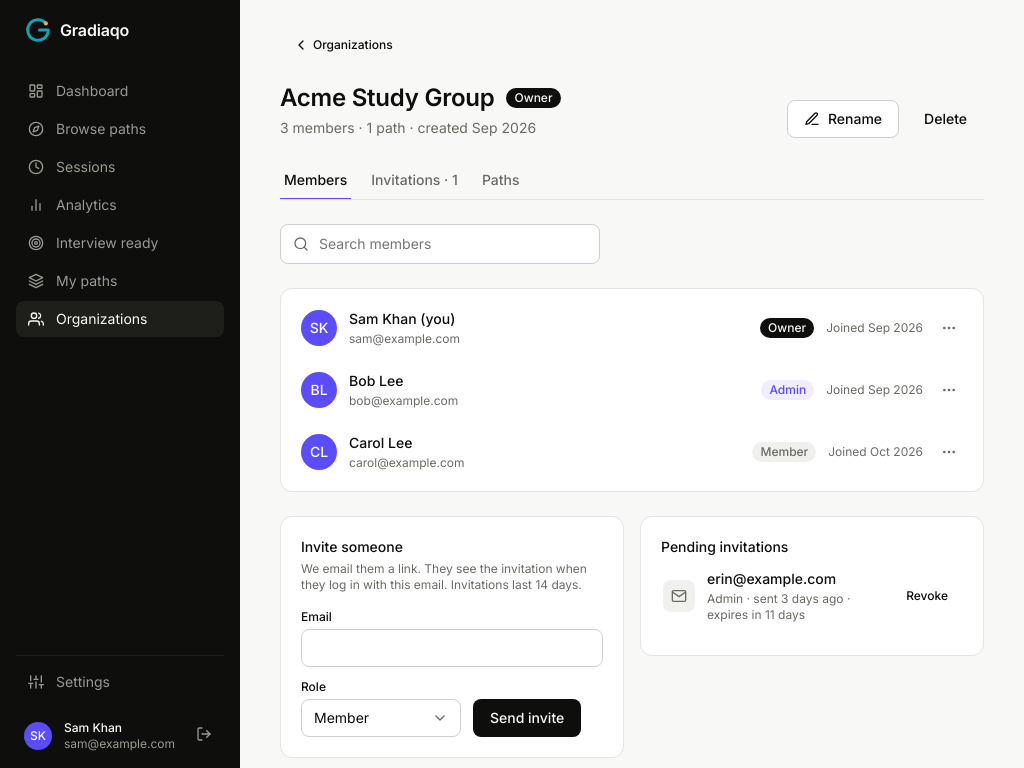
OrganizationPage › changes a member's role, and shows why the API refused one
Expected: the element named "Members" is shown, [280,288,984,492]
Click the button named "Actions for Bob Lee": {"x": 949, "y": 390} [935,376,963,404]
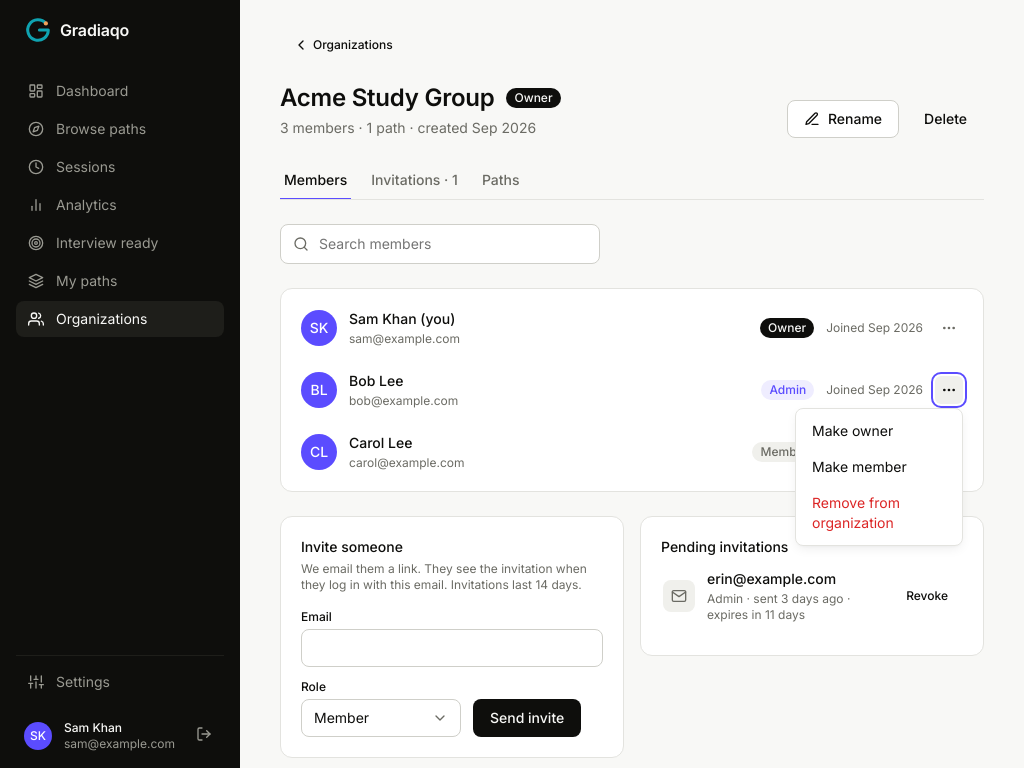
Click the button "Make member": {"x": 879, "y": 467} [800,449,958,485]
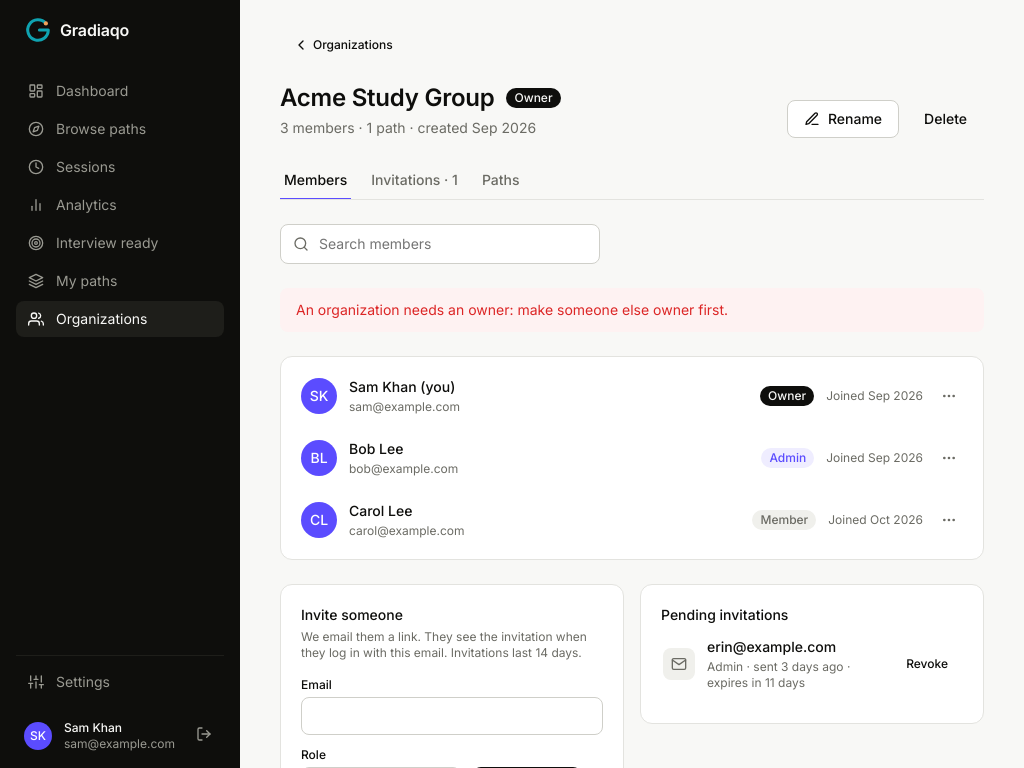
Expected: the message reads "An organization needs an owner: make someone else owner first.", [296,301,728,318]
Click the button named "Actions for Bob Lee": {"x": 949, "y": 458} [935,444,963,472]
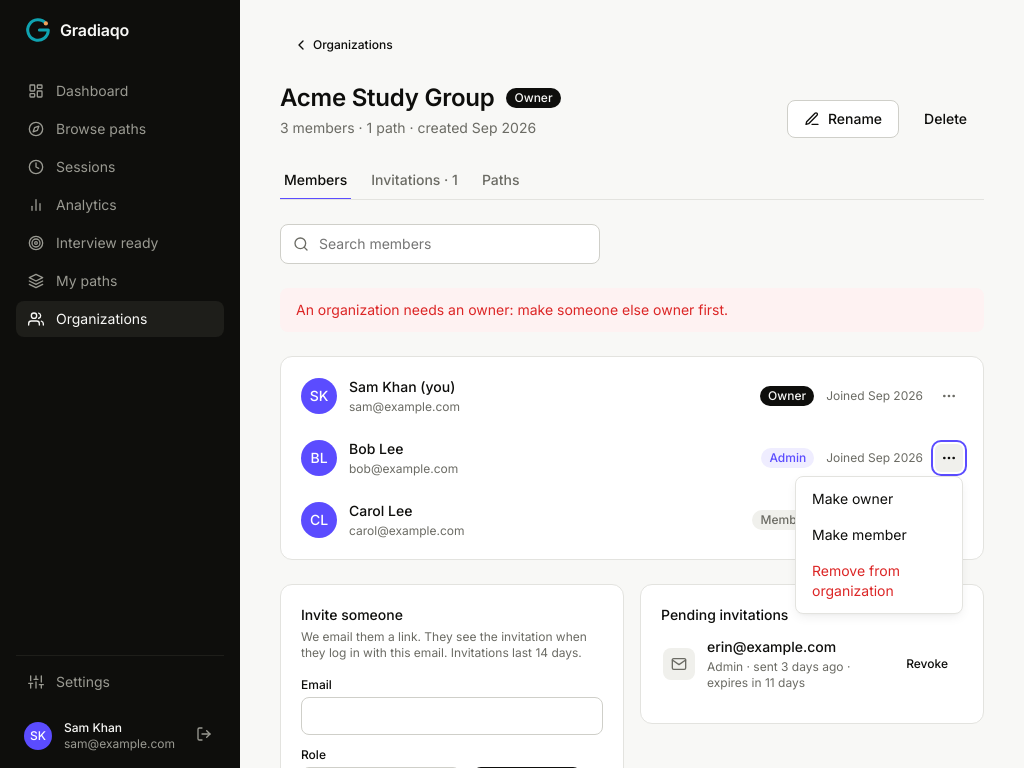
Click the button "Make member": {"x": 879, "y": 535} [800,517,958,553]
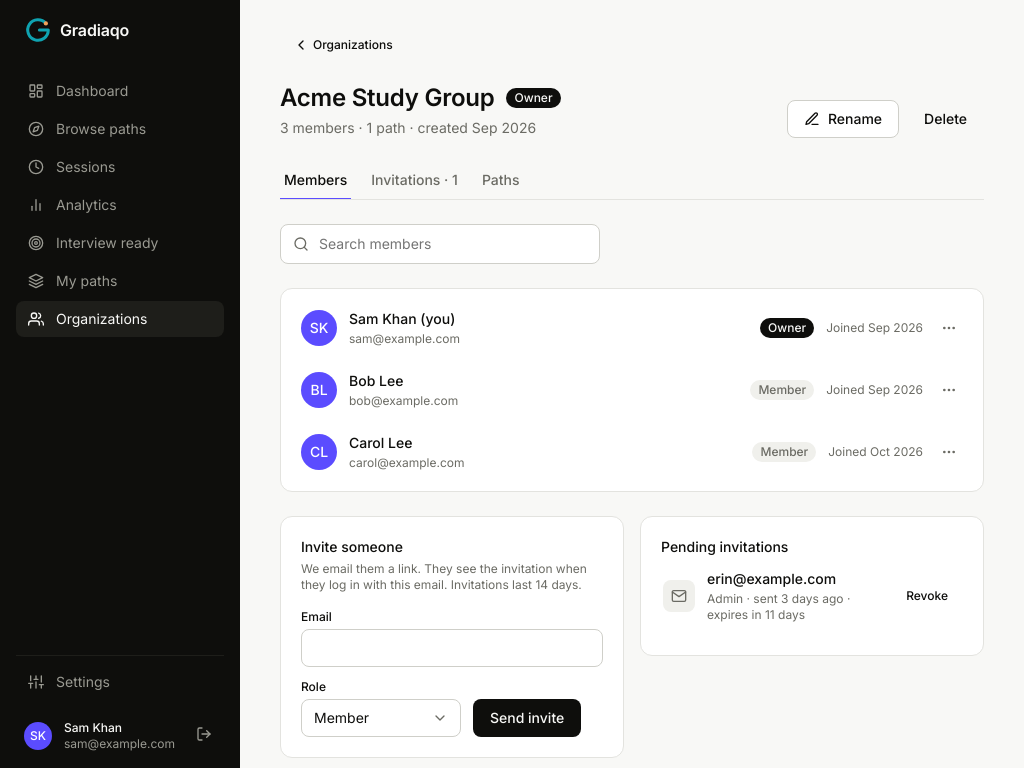
Expected: the list item "BL Bob Lee bob@example.com Member Joined Sep 2026" is shown, [301,372,963,408]
Expected: the message "An organization needs an owner: make someone else owner first." is gone
